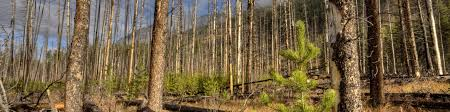smoke: (2, 5, 7, 23)
